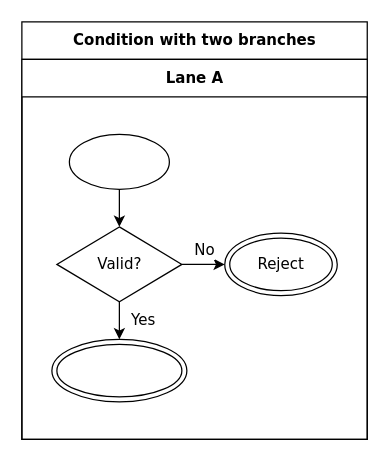
The diagram is 390 pixels wide and 461 high, and some of its shapes have lost their labels. The centre of each missing label's shape, as x and y in pixels:
"Approve" belongs at (119,370).
"Enter" belongs at (118,161).
